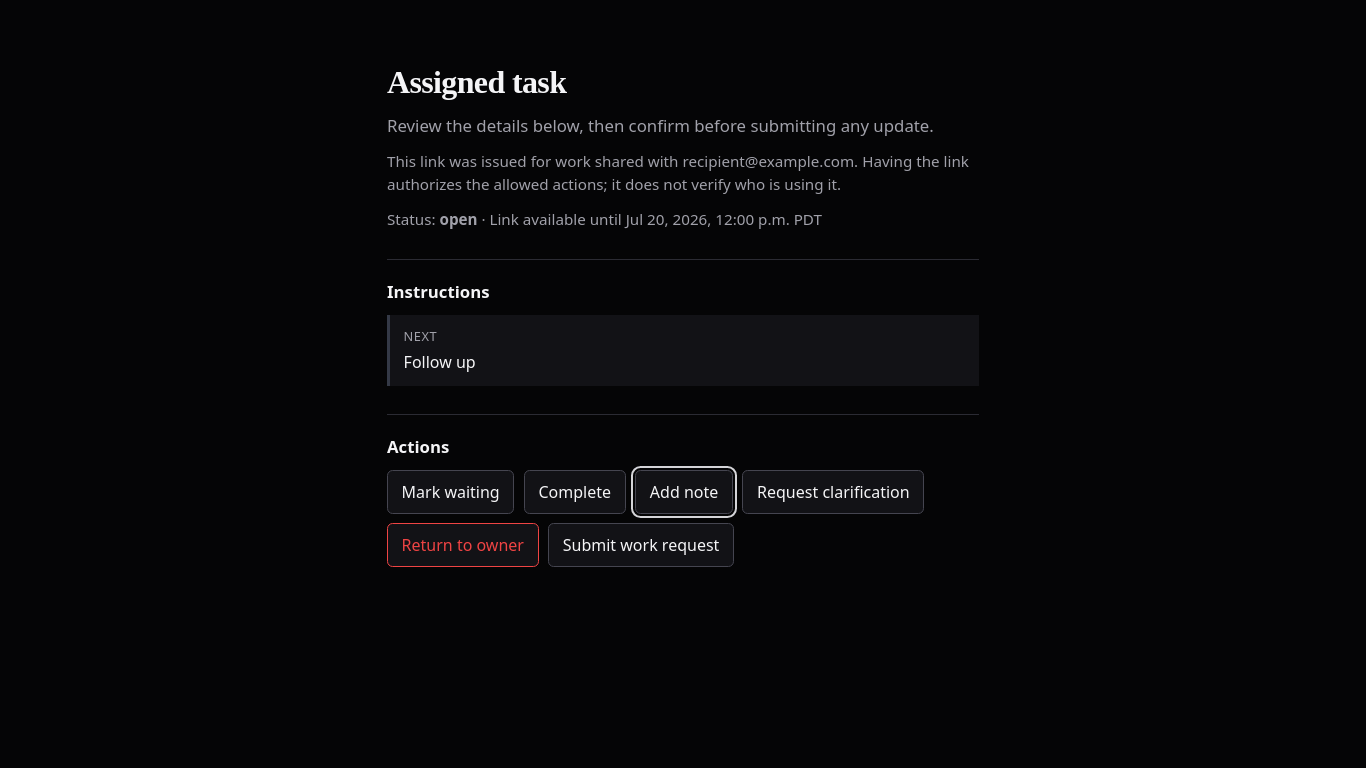
Test: Recipient dialog focus containment (P1.5 / D119) › opens no second dialog while one is open
Click the button "Add note" at (684, 492), box [635,470,733,514]
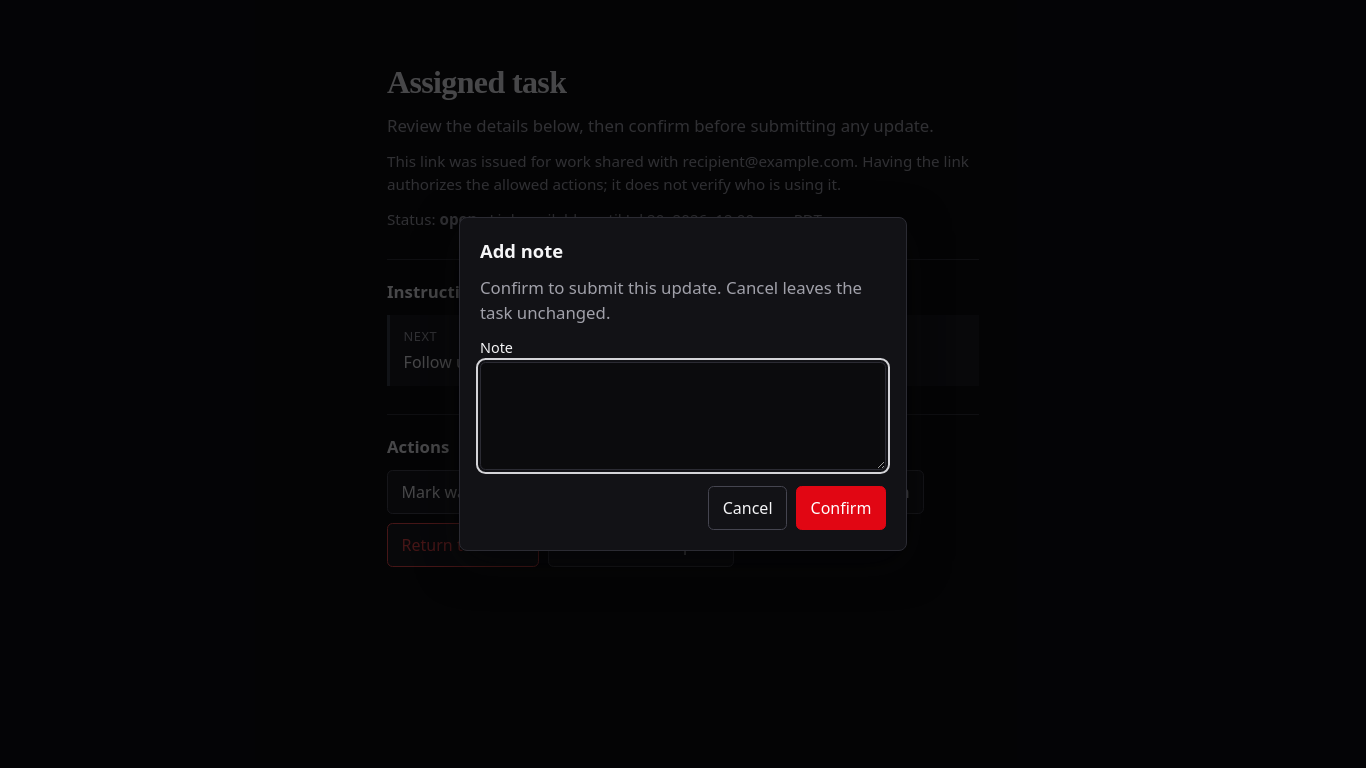
expect the number of dialogs is 1: met, box [459,217,907,551]
